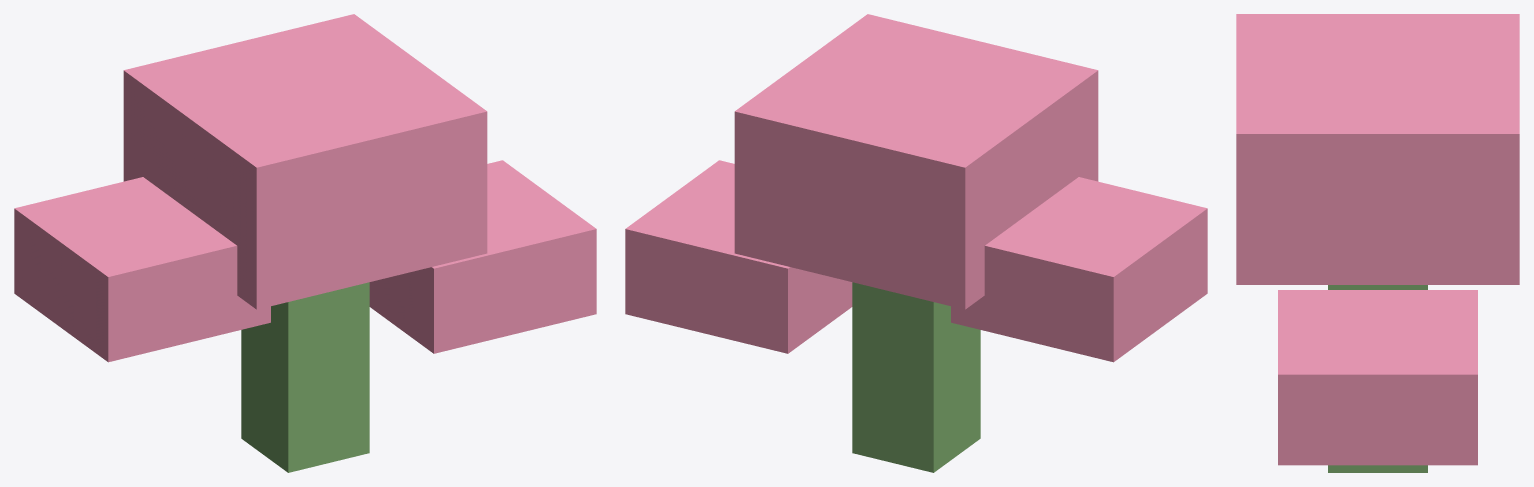
Rendered from Prop_DS_Herb_ZipVine_S1.glb.
3 views of the same model, side by side, from view 1: azimuth 30°, elevation 25°; view 2: azimuth 150°, elevation 25°; view 3: azimuth 270°, elevation 25° (orthographic). The views are drawn at different scales.
Parts seen in each view (by area): view 1: Cube.003, Cube.002, Cube.001, Cube; view 2: Cube.003, Cube.002, Cube.001, Cube; view 3: Cube.003, Cube.001, Cube.
Part boxes in pixels (x1=…): Cube.003: x1=123, y1=14, x2=487, y2=309; Cube.002: x1=14, y1=177, x2=270, y2=362; Cube.001: x1=369, y1=160, x2=596, y2=353; Cube: x1=241, y1=282, x2=369, y2=472; Cube.003: x1=734, y1=14, x2=1098, y2=309; Cube.002: x1=951, y1=177, x2=1207, y2=362; Cube.001: x1=625, y1=160, x2=852, y2=353; Cube: x1=852, y1=282, x2=980, y2=472; Cube.003: x1=1236, y1=14, x2=1519, y2=284; Cube.001: x1=1278, y1=290, x2=1477, y2=465; Cube: x1=1328, y1=285, x2=1427, y2=472.
Bounding box in the file's own units: 0.36 × 0.25 × 0.17.
